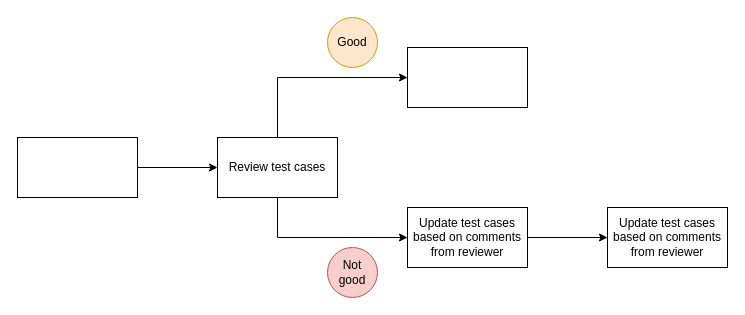
The diagram is 745 pixels wide and 315 high, and some of its shapes have lost their labels. The shapes that lost their labels are listed below. From the top down, each one's box as (x1, y1, x2, y2) in pixels, then its label:
(406, 46, 528, 108): Start testing
(16, 136, 138, 198): Test cases
